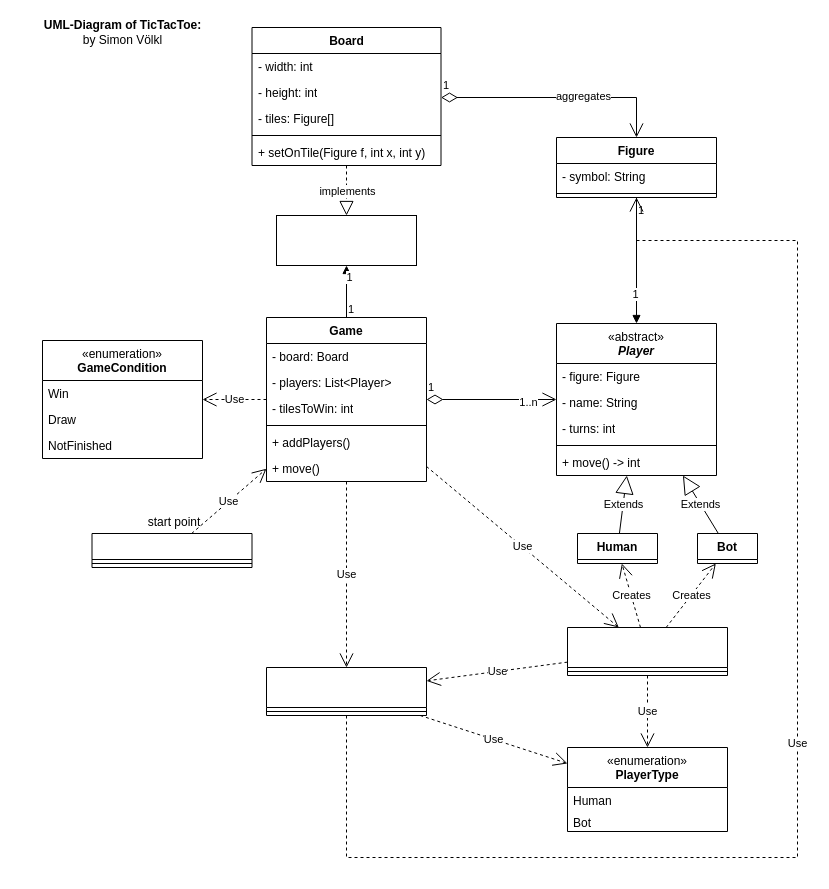
The diagram is 829 pixels wide and 889 high, and some of its shapes have lost their labels. Each missing label, with the centre of its shape:
"TicTacToe" belongs at (x=171, y=550).
"«abstract» CmdInput/CmdOutput" belongs at (x=346, y=691).
"«abstract» PlayerFactory" belongs at (x=647, y=651).
"«interface» IBoard" belongs at (x=346, y=240).
